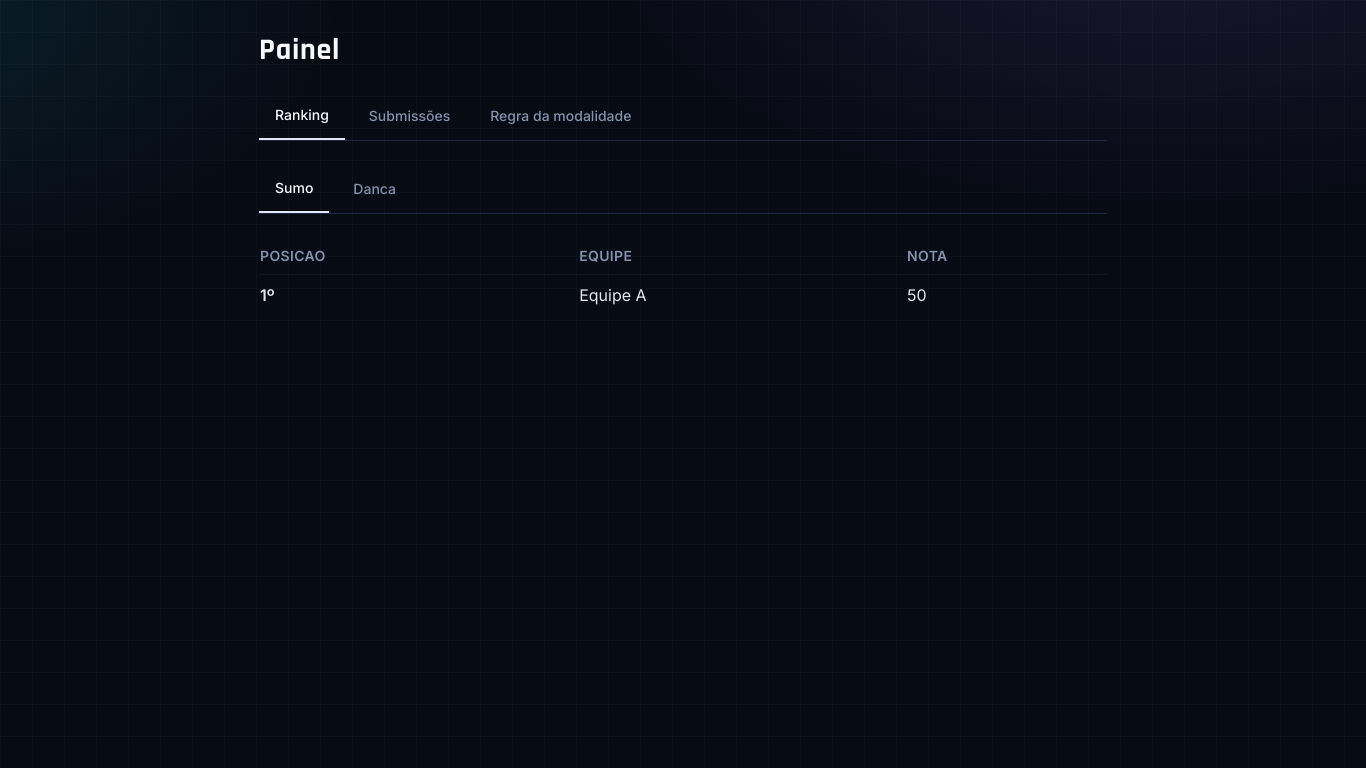
Test: PainelPage › troca para a aba Submissoes e mostra os cards de auditoria
This screenshot has width=1366, height=768.
expect the tab "Sumo" is shown: met, box [259, 165, 329, 213]
Click the tab "Submissões" at (410, 116), box [353, 92, 466, 140]
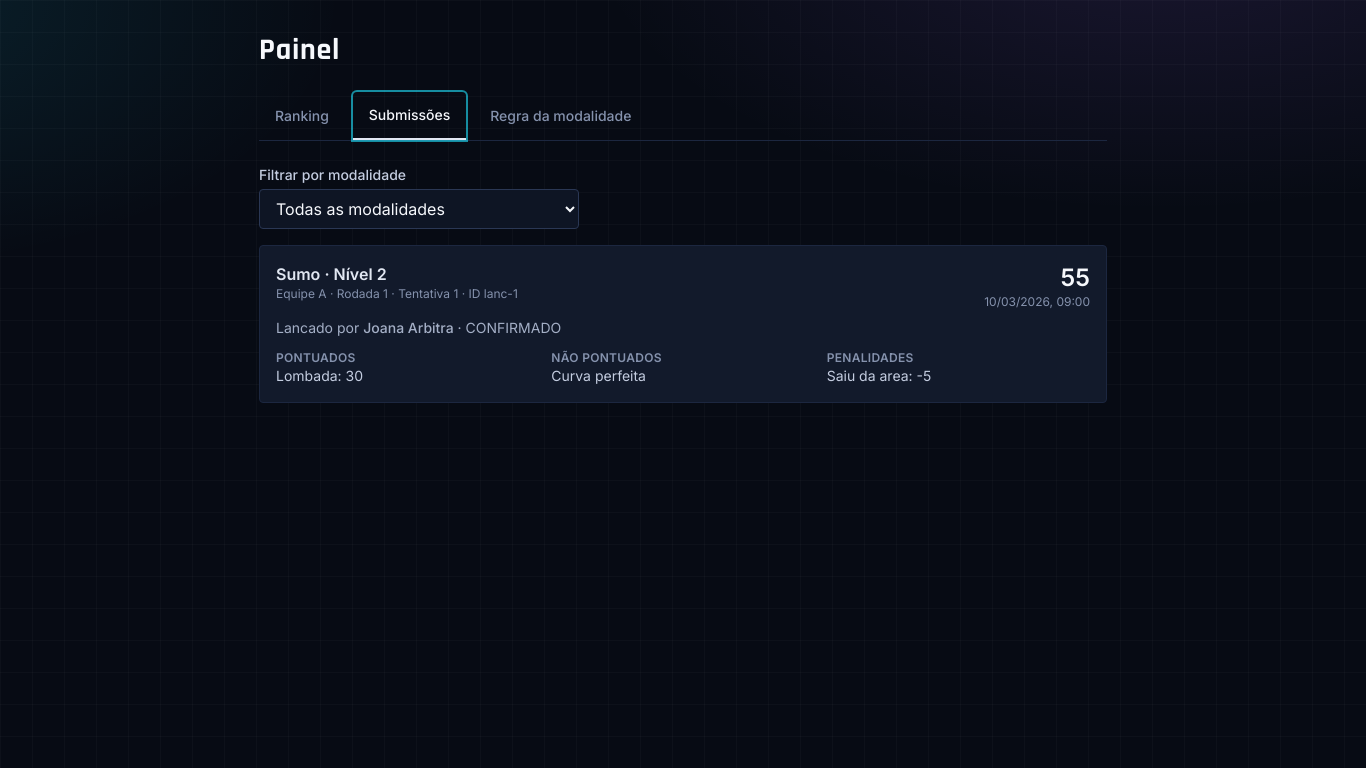
expect the text "Sumo · Nível 2" is shown: met, box [276, 264, 387, 284]
expect the text "55" is shown: met, box [1061, 263, 1090, 292]
expect the list item "Lombada: 30" is shown: met, box [276, 367, 363, 384]
